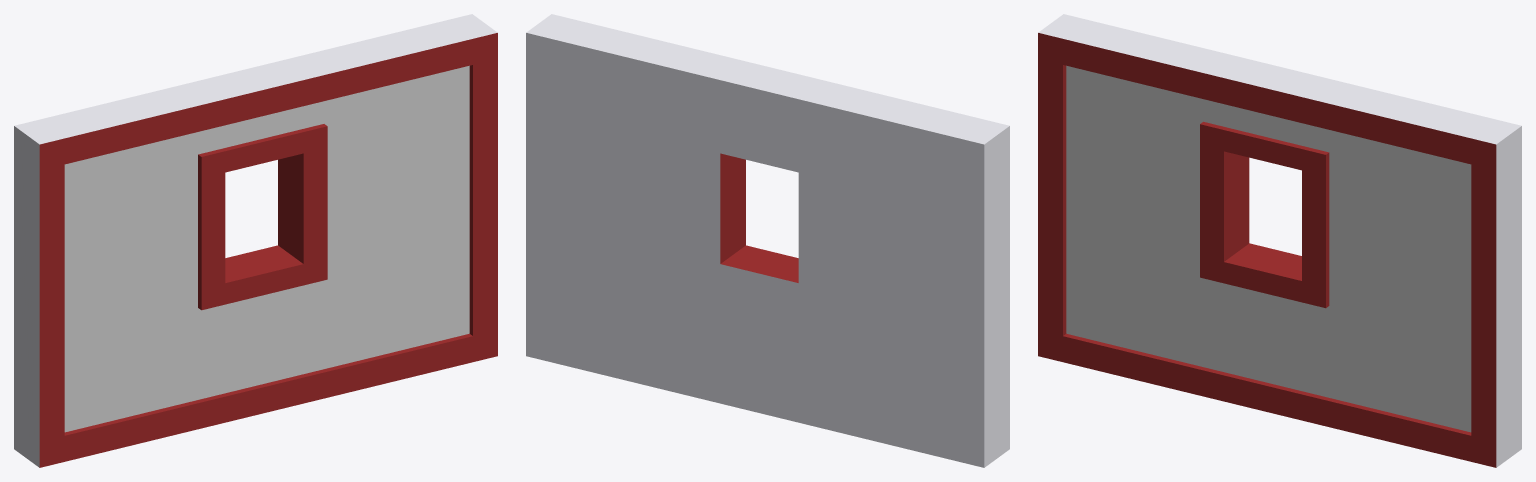
File: Asian_Prop_Building_Modular_Wall_Window_02.FBX
3 views of the same model, side by side, from view 1: azimuth 30°, elevation 25°; view 2: azimuth 150°, elevation 25°; view 3: azimuth 330°, elevation 25° (orthographic).
Parts seen in each view (by area): view 1: Asian_Prop_Building_Modular_Wall_Window_02; view 2: Asian_Prop_Building_Modular_Wall_Window_02; view 3: Asian_Prop_Building_Modular_Wall_Window_02.
Part boxes in pixels (<box>): Asian_Prop_Building_Modular_Wall_Window_02: <box>14,14,497,467</box>; Asian_Prop_Building_Modular_Wall_Window_02: <box>526,14,1009,467</box>; Asian_Prop_Building_Modular_Wall_Window_02: <box>1038,14,1521,467</box>.
Bounding box in the file's own units: 5167 × 3485 × 500.
